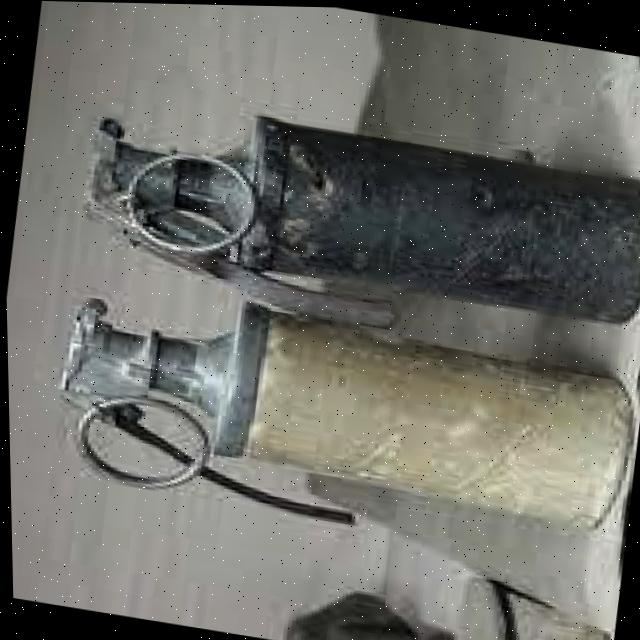grenade: (21, 277, 638, 569), (61, 72, 640, 361)
